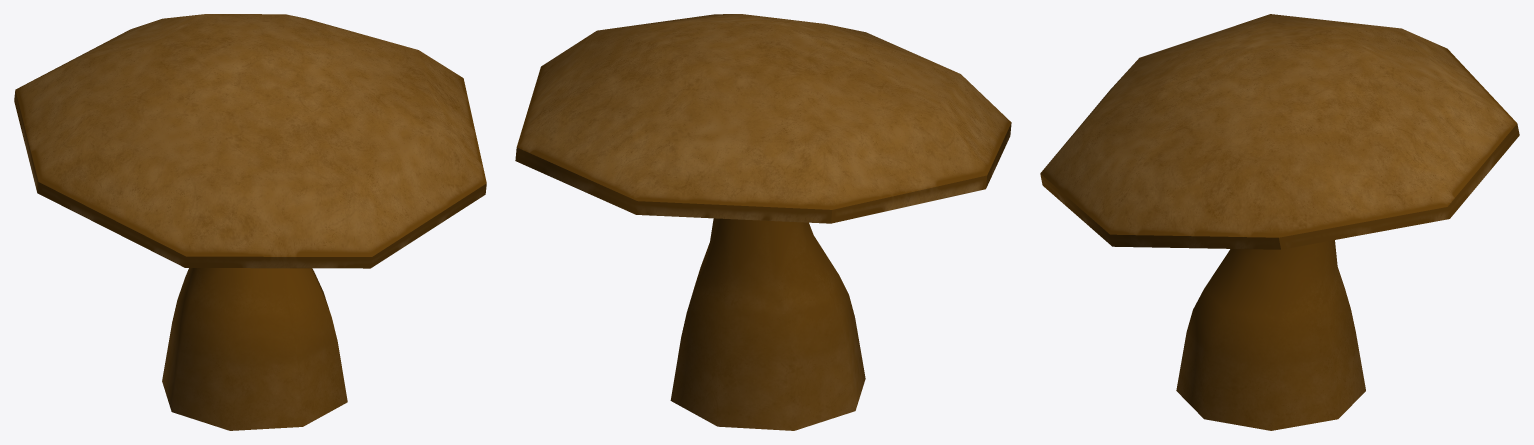
The model's file is Mushroom.fbx.
The picture shows the model from 3 angles, left to right: view 1: azimuth 30°, elevation 25°; view 2: azimuth 150°, elevation 25°; view 3: azimuth 270°, elevation 25°; orthographic projection. The views are drawn at different scales.
Parts seen in each view (by area): view 1: Shroom; view 2: Shroom; view 3: Shroom.
Boxes of the visible parts, x1,y1,x2,y2 form: Shroom: (14,14,486,430); Shroom: (515,14,1011,430); Shroom: (1040,14,1519,430).
Bounding box in the file's own units: 8.04 × 6.23 × 7.96.
1 material, 1 textured.
